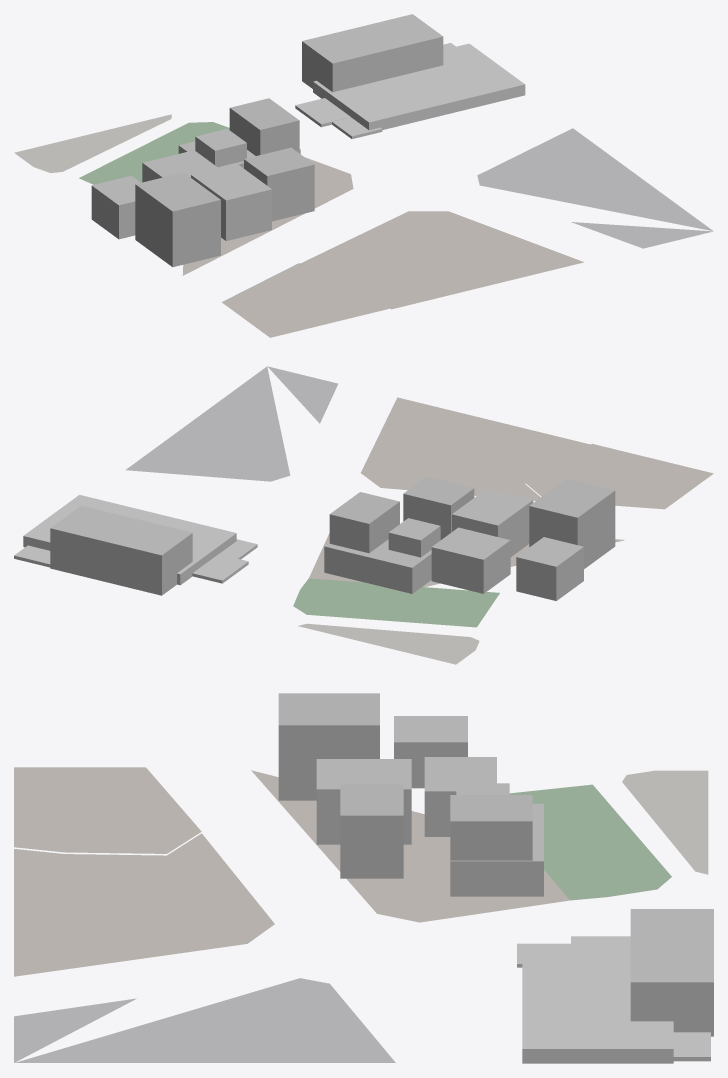
Rendered from 99_105_mid.glb.
3 renders of one model, top to bottom at view 1: azimuth 30°, elevation 25°; view 2: azimuth 150°, elevation 25°; view 3: azimuth 270°, elevation 25°, orthographic. The views are drawn at different scales.
Size of the model in its own units: 512 by 62.44 by 504.
